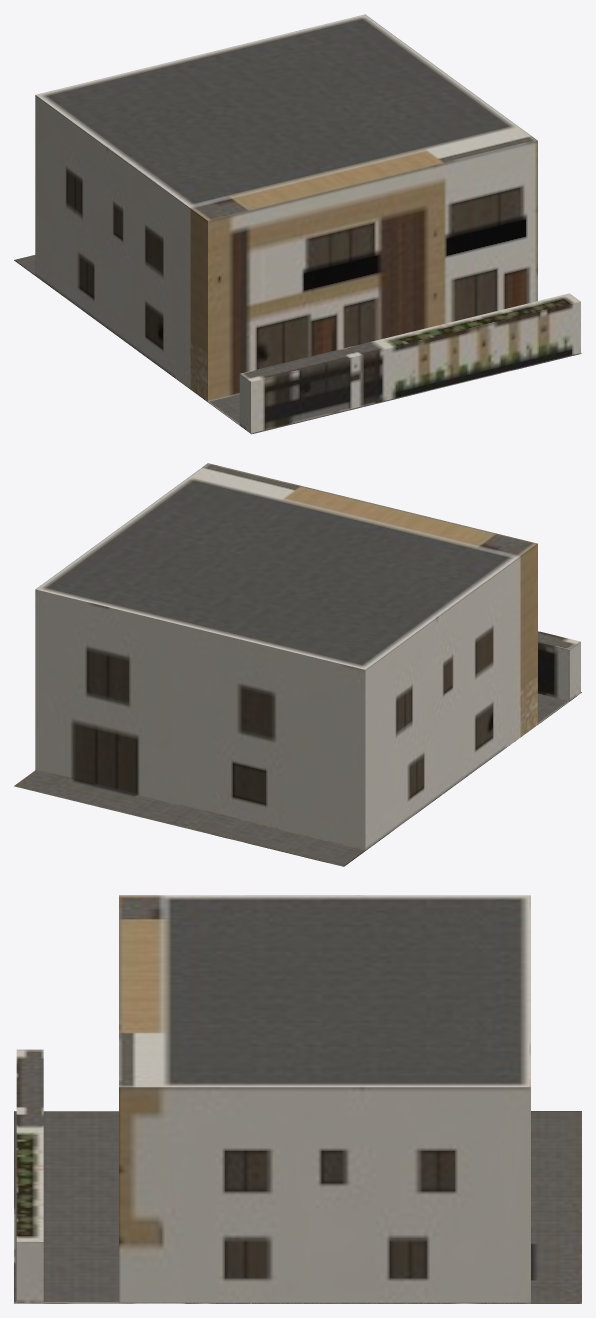
Rendered from house_D_lod2.glb.
3 views of the same model, one above another, from view 1: azimuth 30°, elevation 25°; view 2: azimuth 150°, elevation 25°; view 3: azimuth 270°, elevation 25° (orthographic). The views are drawn at different scales.
Parts seen in each view (by area): view 1: body; view 2: body; view 3: body.
Part boxes in pixels (<box>): body: <box>14,14,581,434</box>; body: <box>14,463,581,866</box>; body: <box>14,895,581,1303</box>.
Size of the model in its own units: 16 by 8.4 by 20.
Materials: 1 (1 with a texture image).
